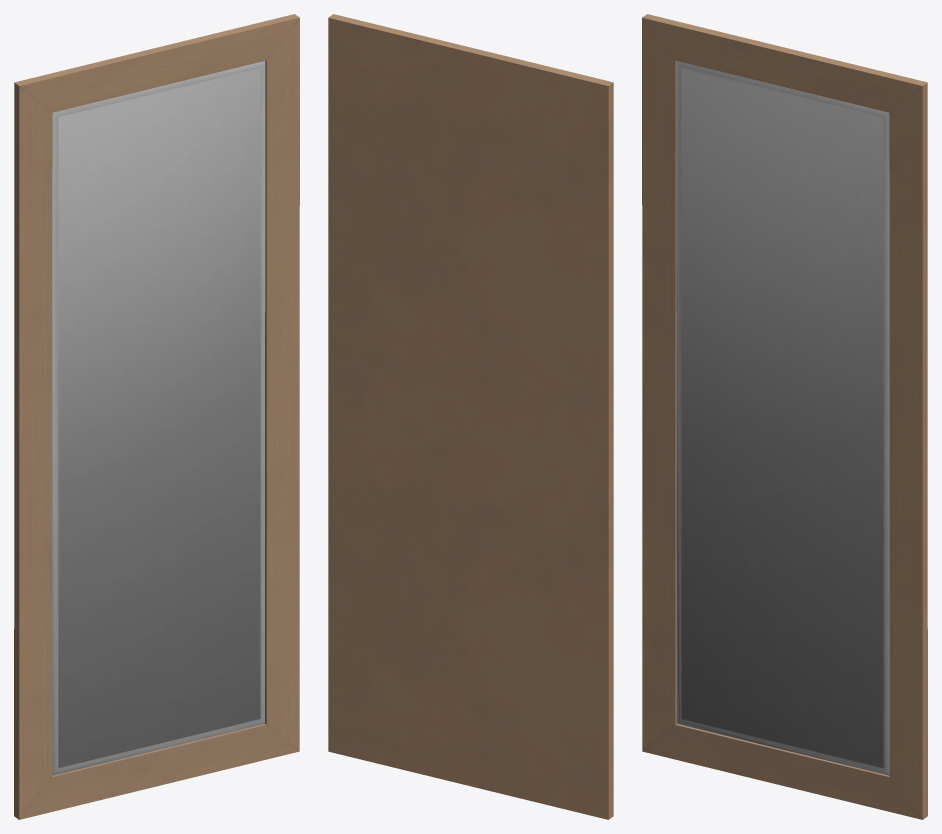
File: B0718ZKL8B.glb
3 renders of one model, left to right at view 1: azimuth 30°, elevation 25°; view 2: azimuth 150°, elevation 25°; view 3: azimuth 330°, elevation 25°, orthographic.
Parts seen in each view (by area): view 1: RootNode; view 2: RootNode; view 3: RootNode.
Boxes of the visible parts, box(x1,y1,x2,y2) form: RootNode: box(14, 14, 299, 819); RootNode: box(328, 14, 613, 819); RootNode: box(642, 14, 927, 819).
Size of the model in its own units: 0.8123 by 2.03 by 0.0263.
1 material, 1 textured.
